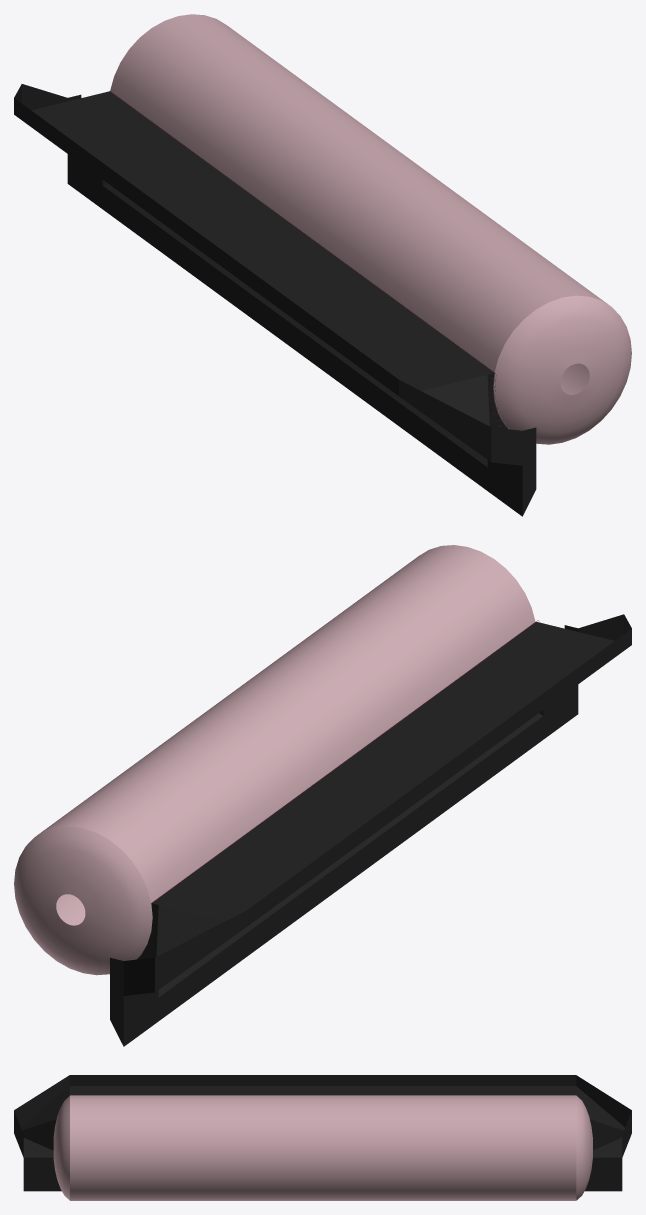
The model's file is TubeHab_Long.glb.
3 renders of one model, top to bottom at view 1: azimuth 30°, elevation 25°; view 2: azimuth 150°, elevation 25°; view 3: azimuth 270°, elevation 25°, orthographic. The views are drawn at different scales.
Visible parts, largest first — view 1: TubeHabLong-LOD0; view 2: TubeHabLong-LOD0; view 3: TubeHabLong-LOD0.
Boxes of the visible parts, <box> form: TubeHabLong-LOD0: <box>14,14,631,516</box>; TubeHabLong-LOD0: <box>14,545,631,1046</box>; TubeHabLong-LOD0: <box>14,1075,631,1200</box>.
Size of what is drawn, in the model's own units: 44.09 by 31.56 by 153.
